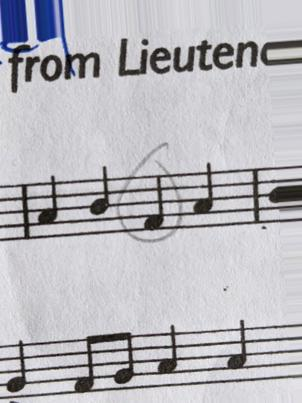A: (150, 321, 181, 394), (190, 161, 217, 237), (223, 317, 251, 388), (33, 173, 60, 241)
B: (85, 164, 113, 236)
F: (141, 172, 170, 242)
G: (5, 337, 33, 400)
